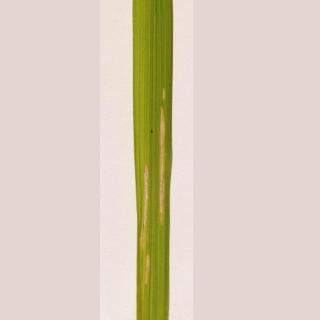Hawar-Daun: (152, 86, 179, 240), (135, 152, 157, 312)
